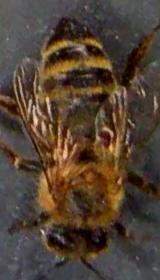varroa_mite: (86, 126, 124, 146)
